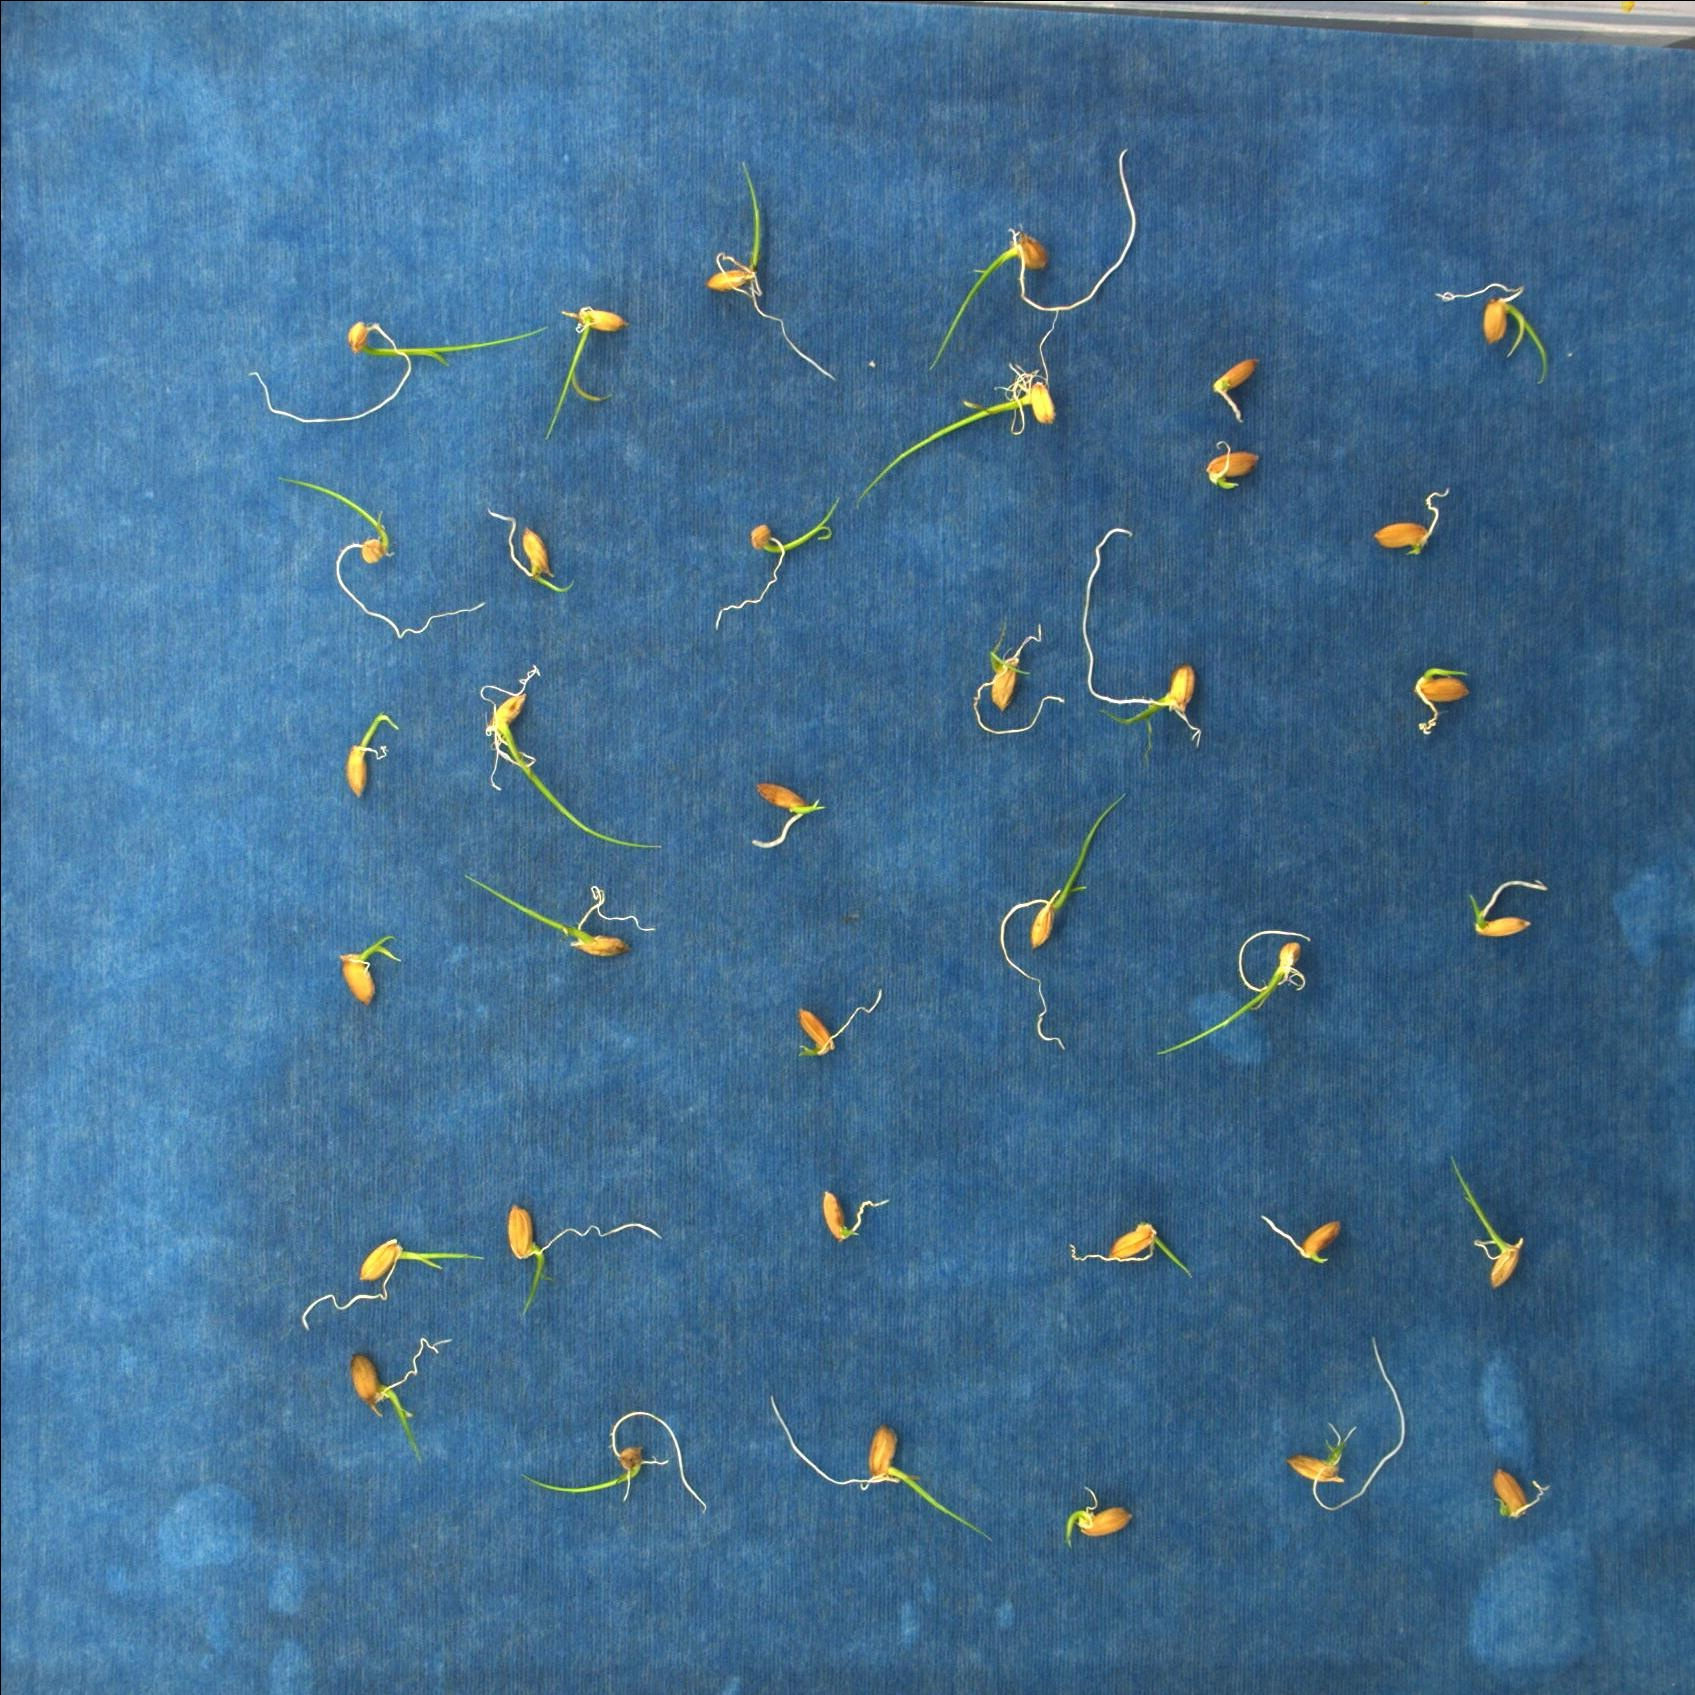not sprout: (1375, 487, 1451, 557), (1260, 1214, 1343, 1263), (823, 1189, 893, 1242), (1492, 1465, 1554, 1520), (1212, 359, 1259, 422)
sprout: (928, 147, 1136, 373), (855, 309, 1060, 509), (480, 664, 664, 851), (278, 477, 486, 640), (1000, 792, 1128, 1052), (771, 1394, 995, 1541), (247, 320, 551, 425), (705, 160, 840, 383), (1083, 528, 1203, 748), (1287, 1335, 1405, 1513), (1156, 931, 1313, 1057), (520, 1412, 706, 1513), (508, 1205, 663, 1318), (712, 497, 841, 632), (301, 1239, 484, 1332), (464, 872, 658, 959), (349, 1336, 453, 1467), (1433, 282, 1549, 385), (545, 304, 632, 439), (973, 619, 1063, 736), (1451, 1156, 1524, 1291), (486, 508, 574, 594), (1068, 1222, 1194, 1281), (798, 989, 885, 1060), (751, 779, 826, 851), (345, 716, 397, 799), (1468, 882, 1549, 936), (338, 936, 400, 1006), (1063, 1485, 1133, 1544), (1412, 667, 1471, 734), (1208, 439, 1260, 492)
